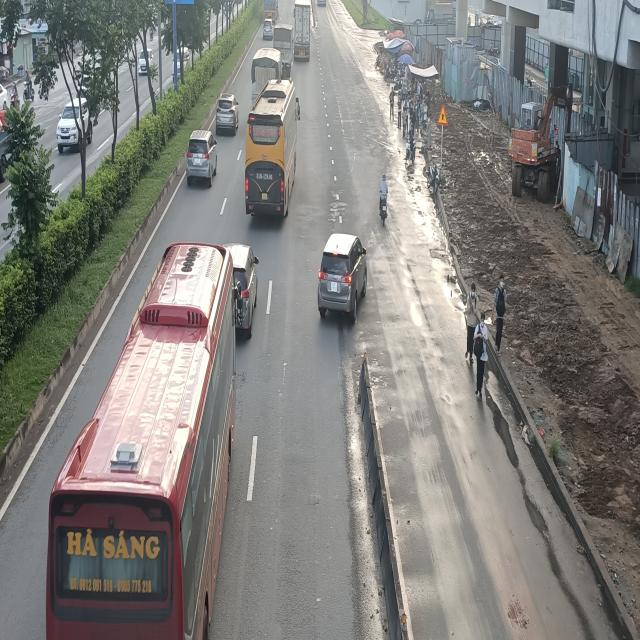car: (318, 234, 370, 324), (188, 129, 220, 184), (215, 93, 240, 134)
coach: (43, 240, 236, 638), (245, 75, 295, 220)
